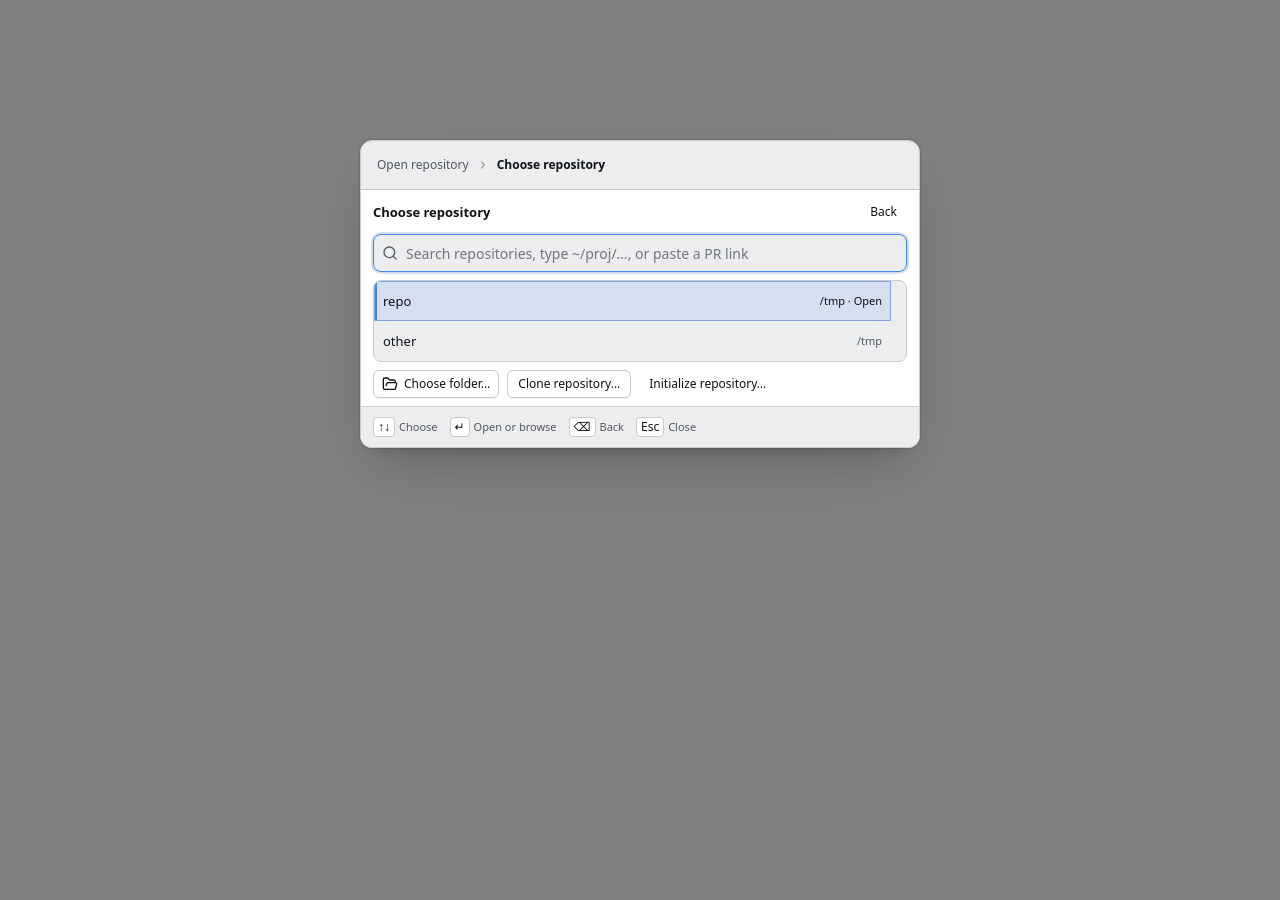
Test: AppCommandPalette › scrolls the highlighted repository folder into view while navigating
Type "/tmp/" into the field named "Repository name, directory path, or pull request URL" at (652, 253), box [406,235,898,271]
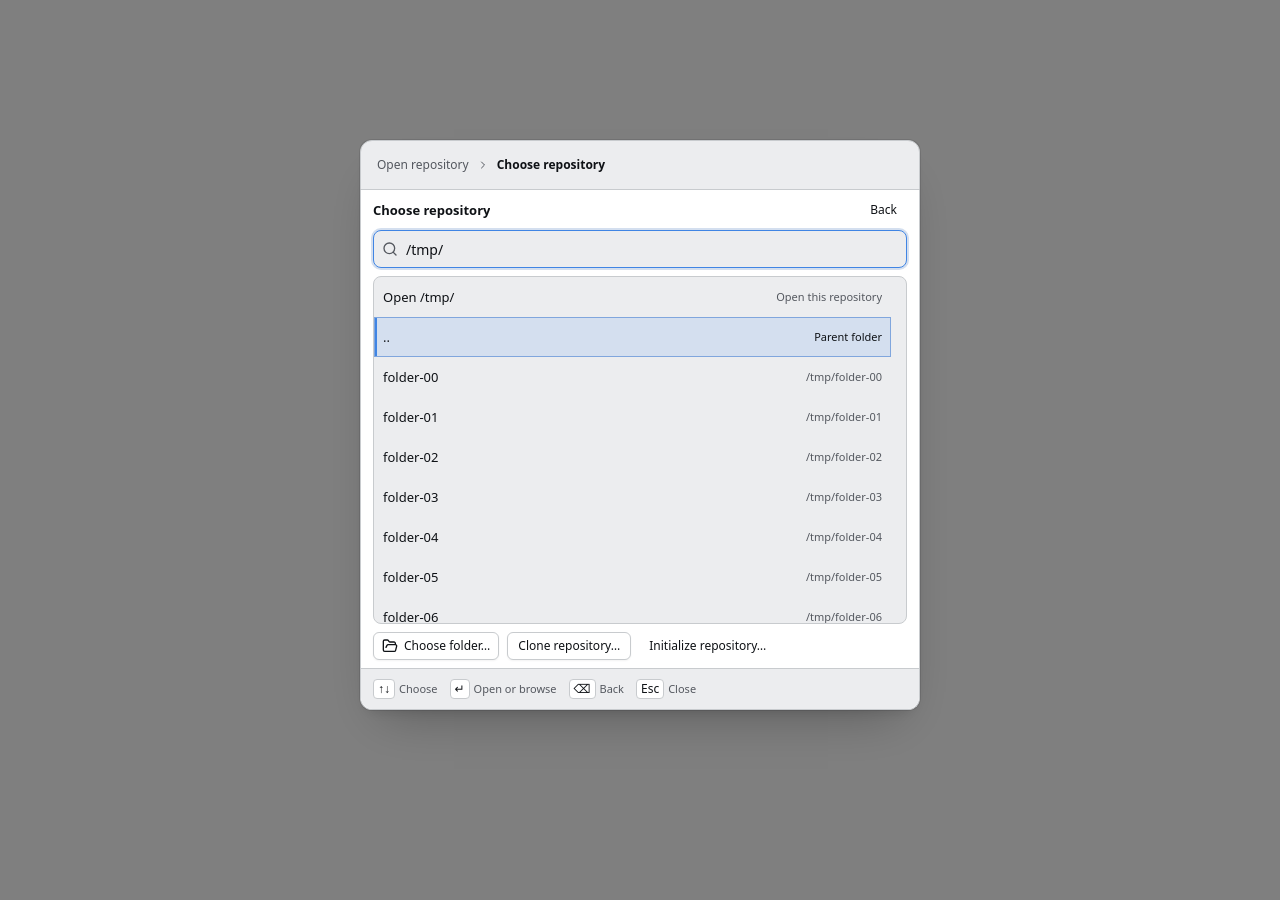
Check: the button "folder-00 /tmp/folder-00" is shown, box [374,357,891,397]
